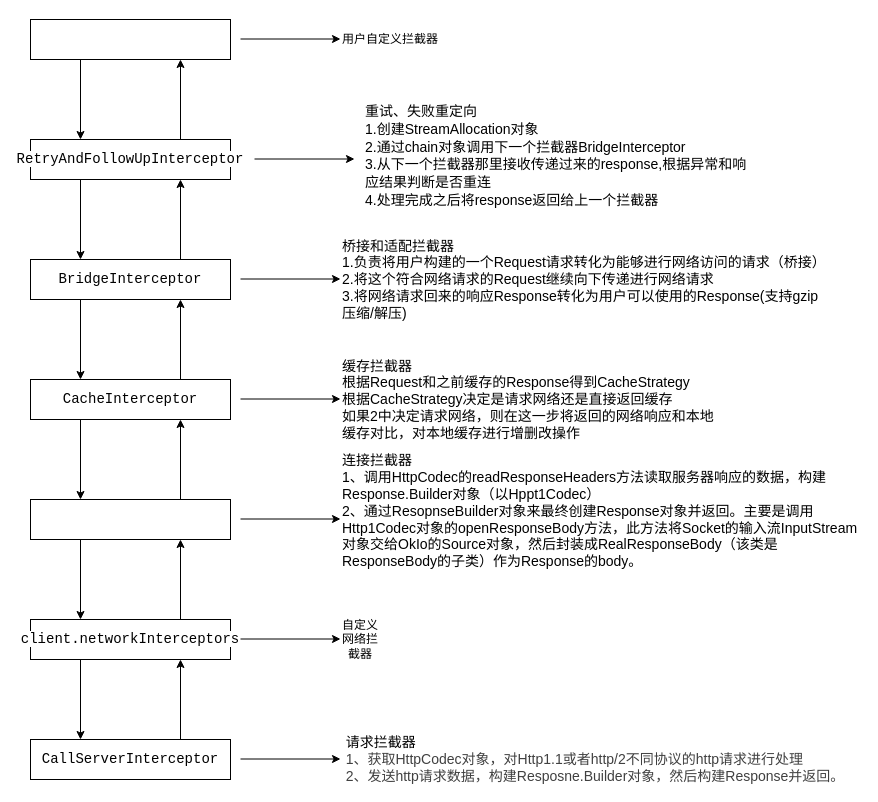
The diagram is 878 pixels wide and 802 high, and some of its shapes have lost their labels. The centre of each missing label's shape, as x and y in pixels:
client.interceptors: the point at 130,39
ConnectInterceptor: the point at 130,519
